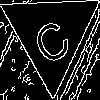C: (26, 10, 74, 68)
